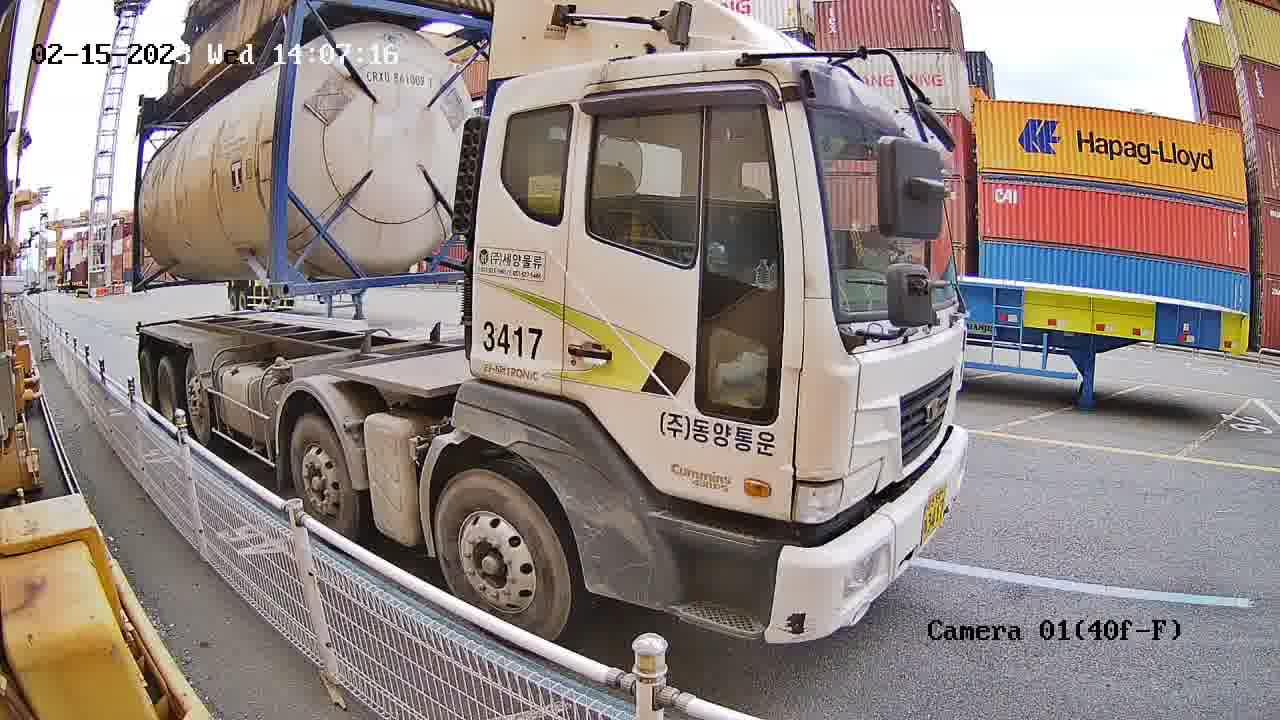Chassis: (274, 333, 463, 380)
Cone: (269, 354, 298, 384)
Hole_L: (276, 252, 316, 298)
Hole_R: (257, 255, 278, 303)
Tire: (434, 474, 572, 638), (292, 415, 354, 533), (185, 358, 212, 445), (155, 360, 179, 418), (140, 352, 154, 404)
